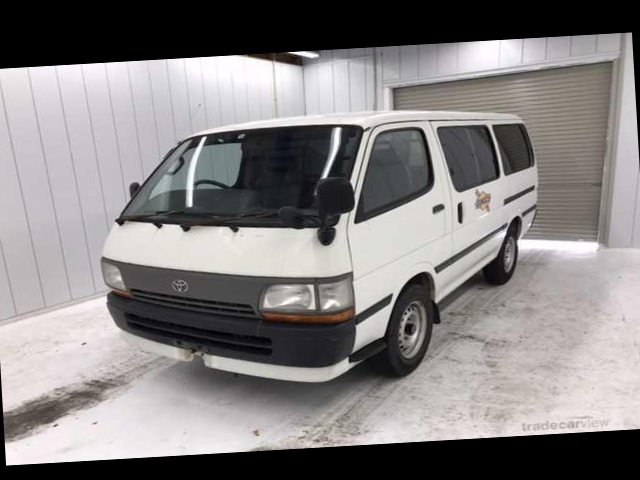van: (92, 103, 550, 386)
